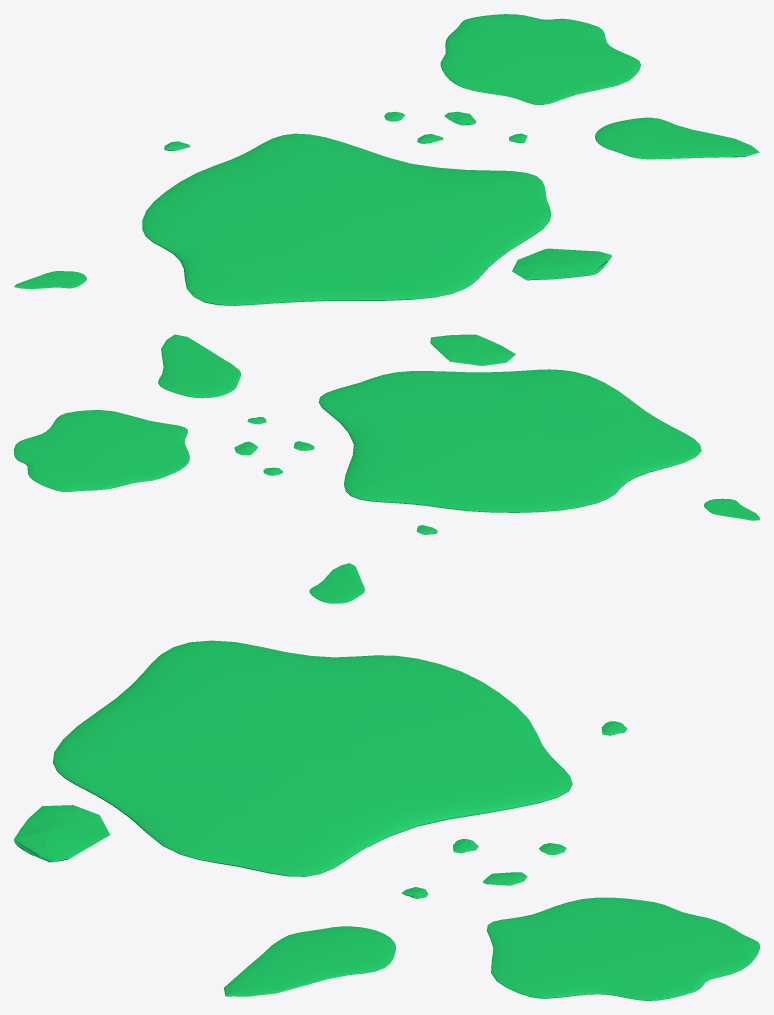
File: splatter (1).fbx
3 views of the same model, one above another, from view 1: azimuth 30°, elevation 25°; view 2: azimuth 150°, elevation 25°; view 3: azimuth 270°, elevation 25° (orthographic). The views are drawn at different scales.
Parts seen in each view (by area): view 1: Sphere, Sphere.002, Sphere.004, Sphere.020, Sphere.019; view 2: Sphere, Sphere.002, Sphere.004, Sphere.020, Sphere.019; view 3: Sphere, Sphere.002, Sphere.004, Sphere.020, Sphere.019.
Part boxes in pixels (x1,y1,x2,y2): Sphere: (142,133,551,305); Sphere.002: (440,14,640,104); Sphere.004: (595,117,759,159); Sphere.020: (512,248,611,280); Sphere.019: (14,271,86,289); Sphere: (318,369,701,512); Sphere.002: (14,410,189,491); Sphere.004: (158,334,241,398); Sphere.020: (430,334,515,365); Sphere.019: (704,498,759,520); Sphere: (53,640,572,876); Sphere.002: (486,897,759,1000); Sphere.004: (224,926,395,996); Sphere.020: (14,805,110,862); Sphere.019: (309,563,364,603).
Bounding box in the file's own units: 579 × 10.17 × 417.
